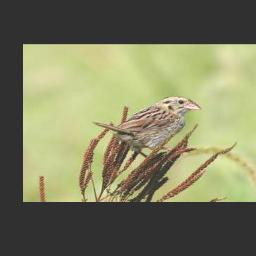Sparrow: (91, 95, 204, 161)
